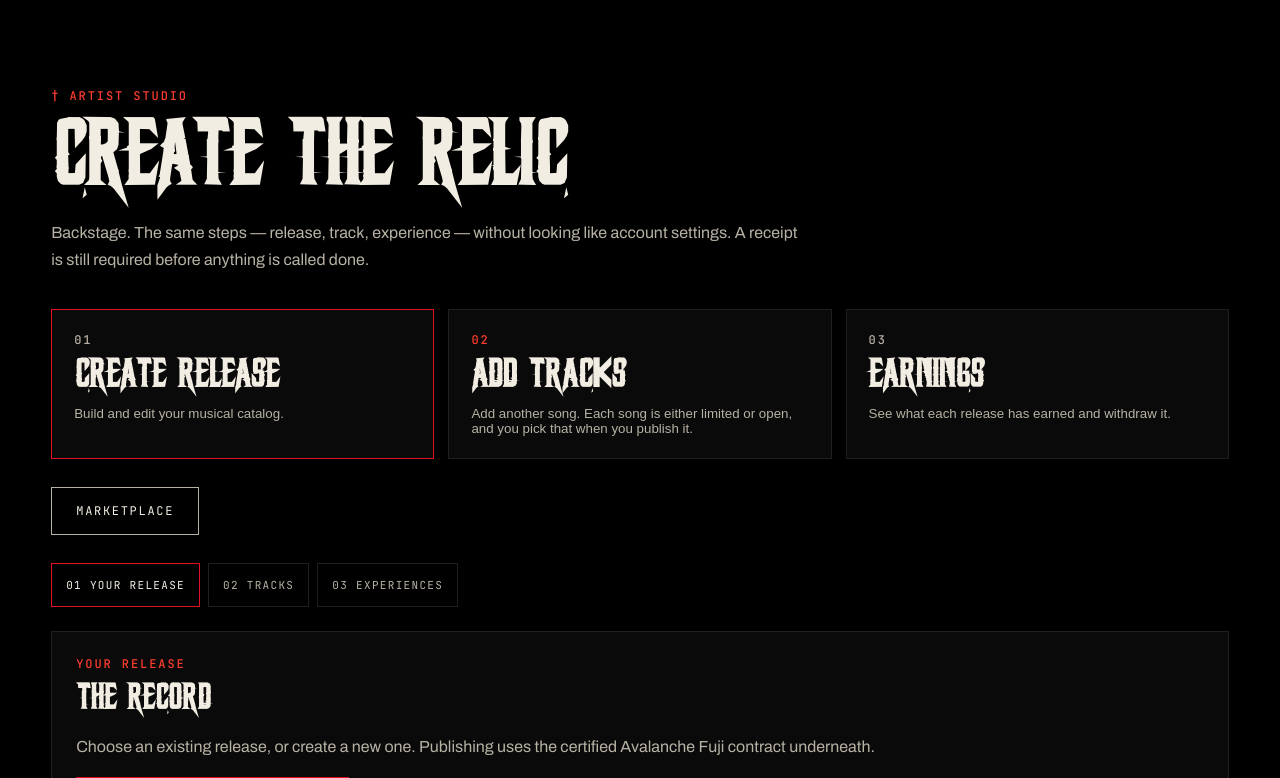
Scenario: Studio has no already-uploaded file pickers › shows only the upload buttons on the Tracks step, even when the artist has earlier uploads
Click the button "02 Tracks" at (259, 585), box [208,563,309,607]
(page scrolled)
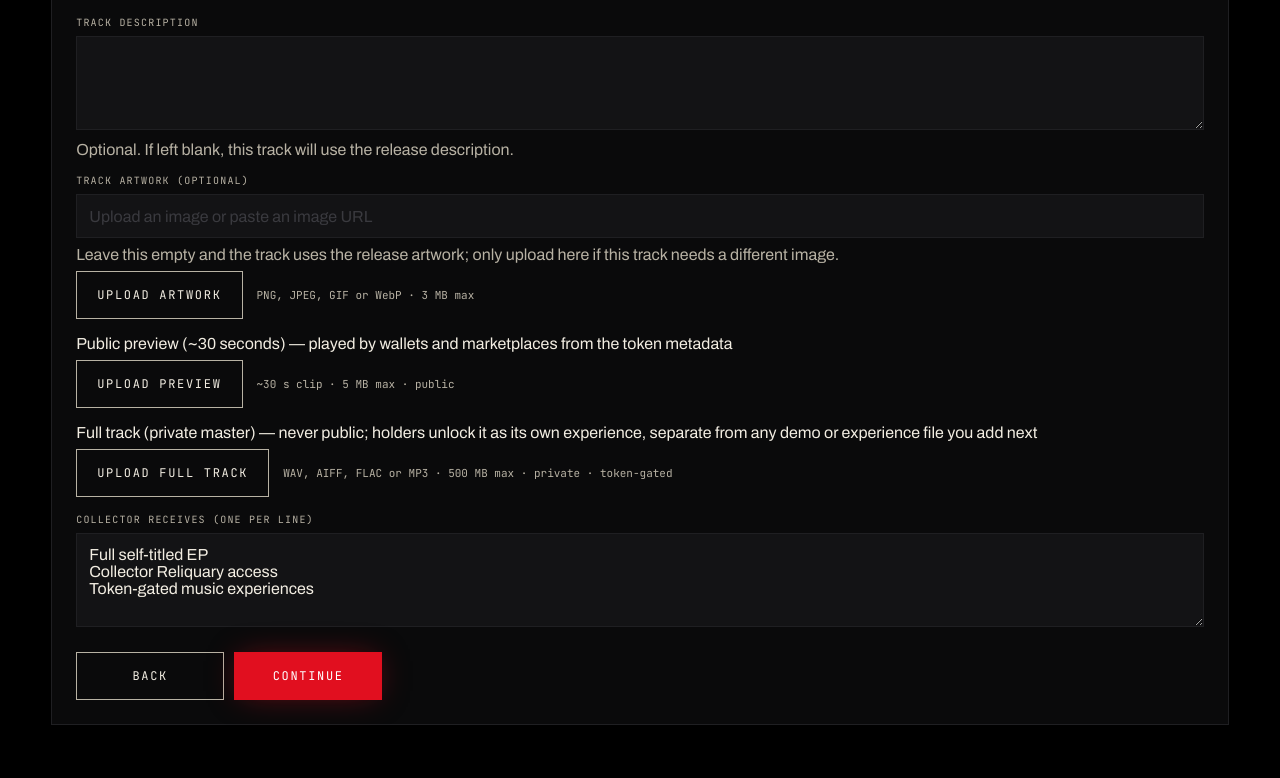
Now the file field "Upload full track" is shown, box [76,449,269,497]
Now the file field "Upload preview" is shown, box [76,360,242,408]
